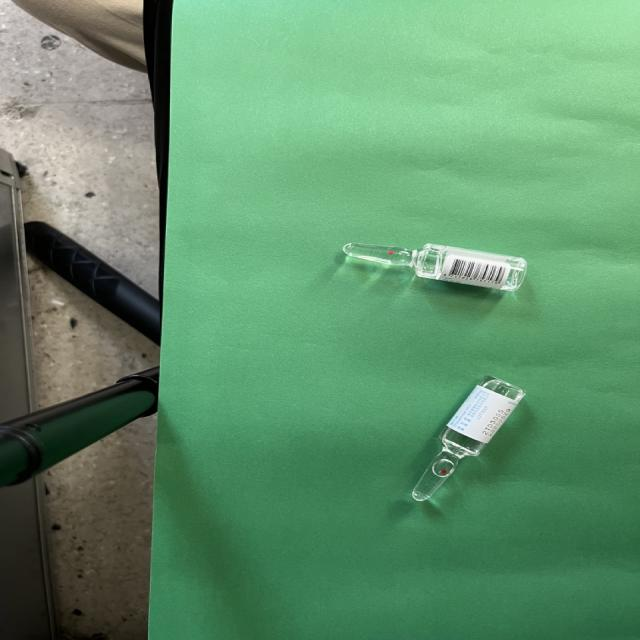Ampoules: (411, 376, 523, 502), (343, 243, 526, 291)
